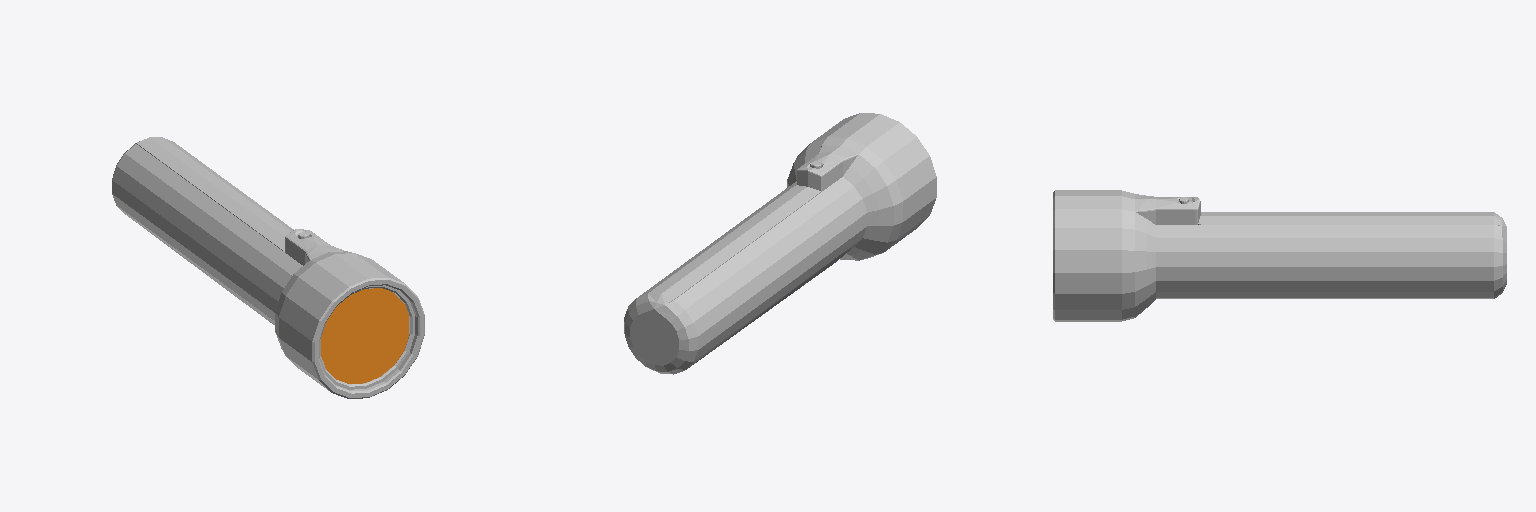
Rendered from senter.obj.
The picture shows the model from 3 angles: view 1: azimuth 30°, elevation 25°; view 2: azimuth 150°, elevation 25°; view 3: azimuth 270°, elevation 25°; orthographic projection.
Visible parts, largest first — view 1: fonarik_low_max_Mesh; view 2: fonarik_low_max_Mesh; view 3: fonarik_low_max_Mesh.
Part boxes in pixels (left/top/right/bottom): fonarik_low_max_Mesh: left=112, top=137, right=424, bottom=398; fonarik_low_max_Mesh: left=624, top=113, right=936, bottom=374; fonarik_low_max_Mesh: left=1053, top=190, right=1506, bottom=321.
Bounding box in the file's own units: 0.1146 × 0.1164 × 0.4001.